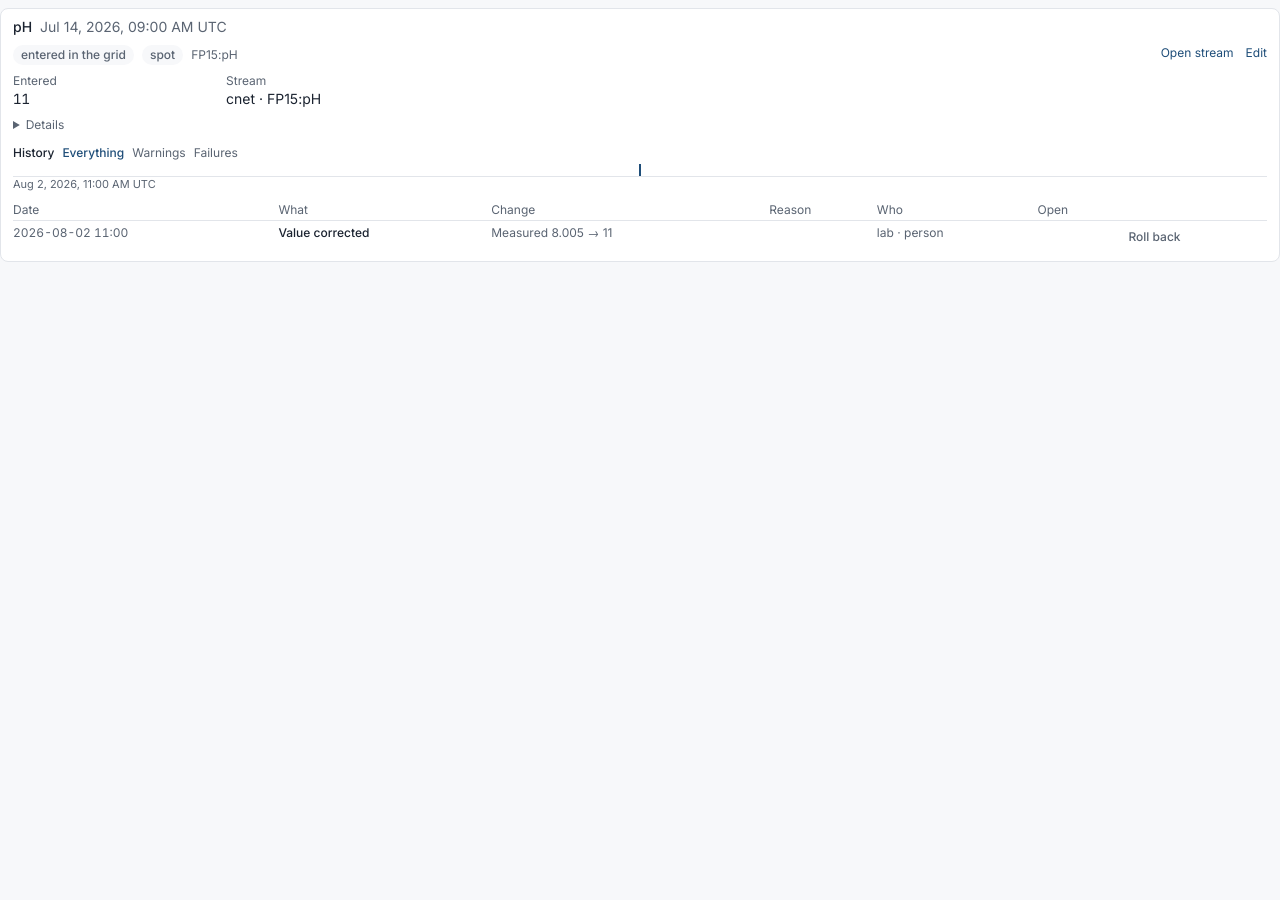
Scenario: PointInspector › opened from a visit › re-reads the record and tells the visit after a roll-back, instead of redrawing what it was handed
Click the button with aria-label "Roll back this reading". click: [1155, 237]
box: 1120,225 -> 1189,249
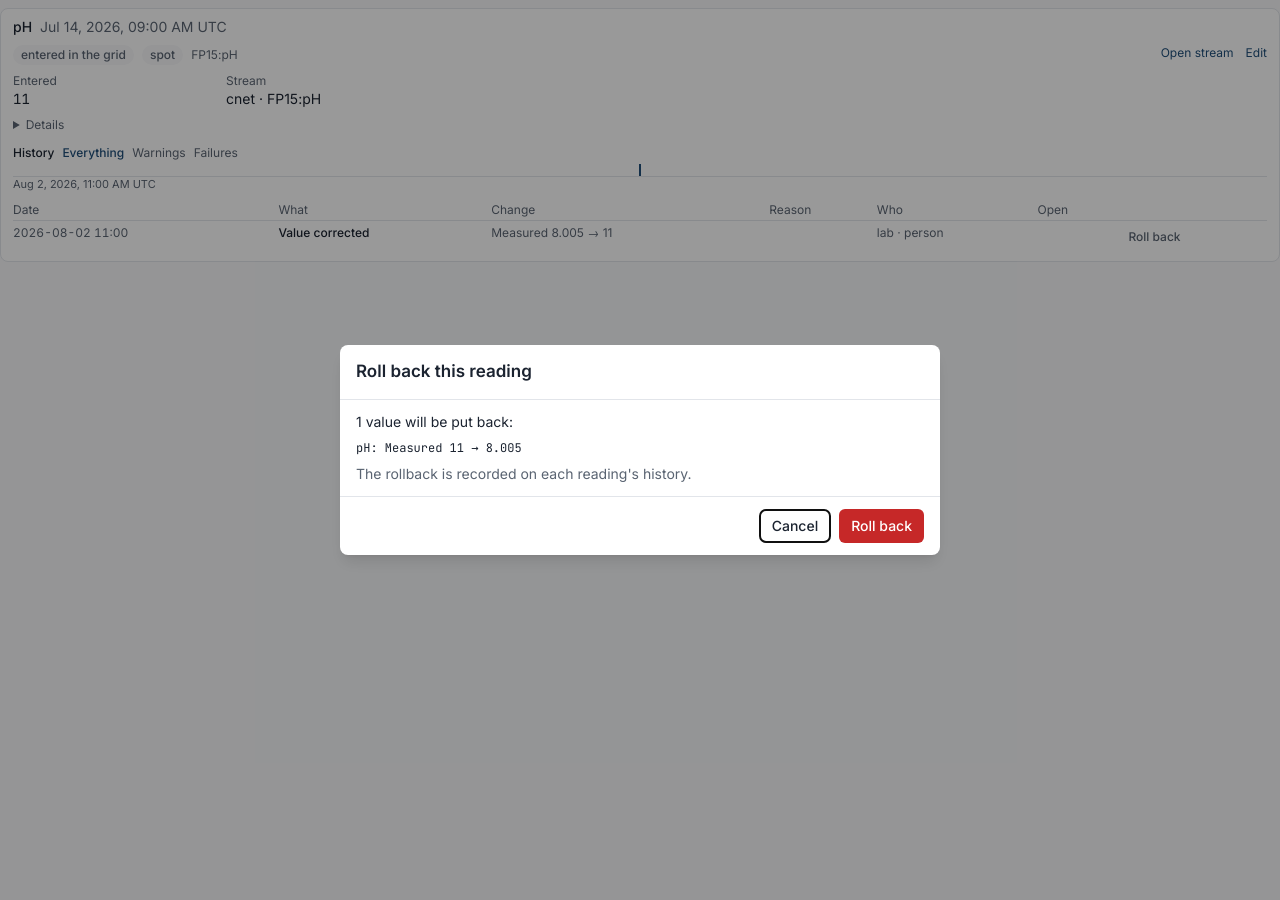
Now the dialog shows "Measured 11 → 8.005", box 356,440 -> 522,456
Click the button "Roll back". click: [882, 526]
box: 839,509 -> 924,543
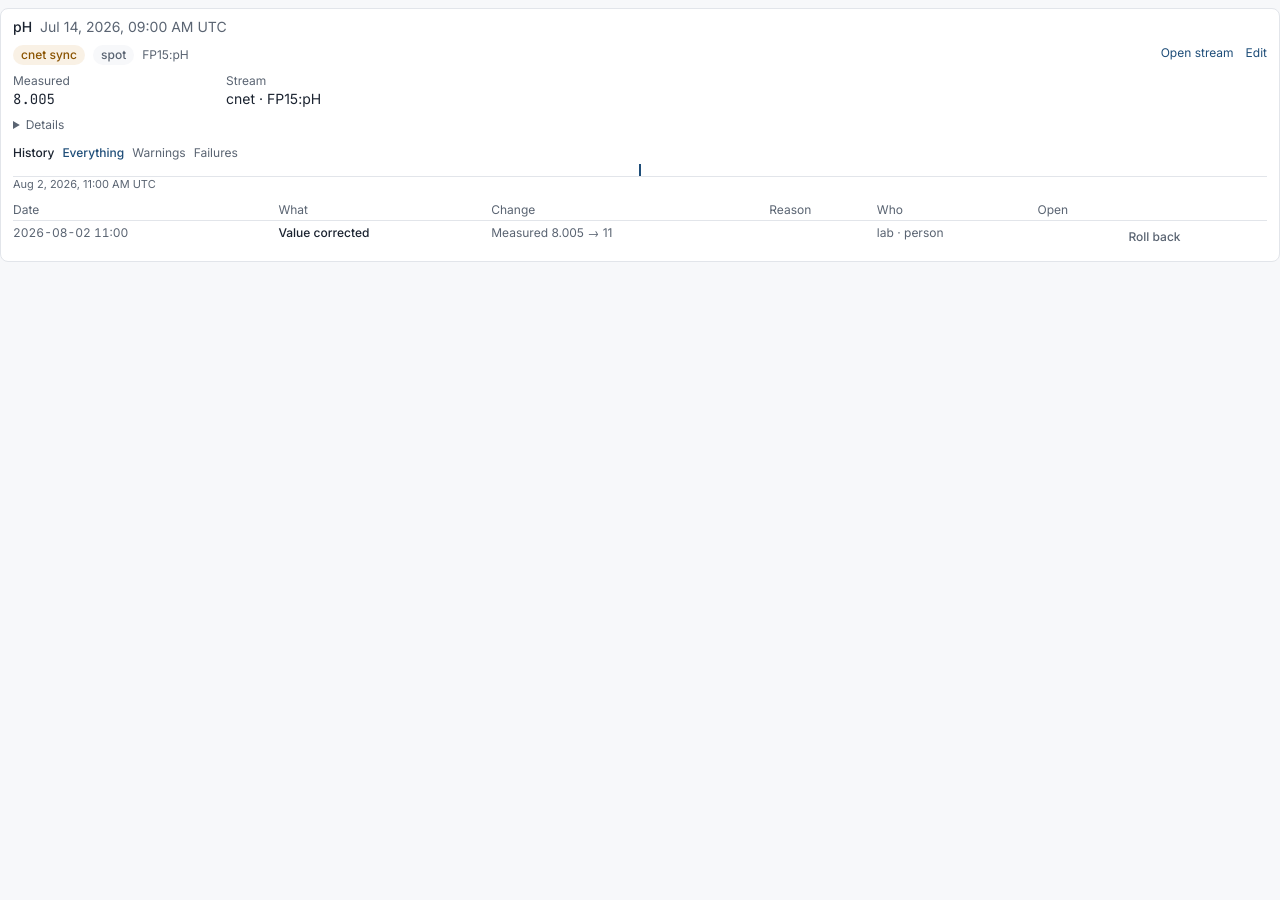
Now the text "8.005" is shown, box 13,90 -> 55,108
